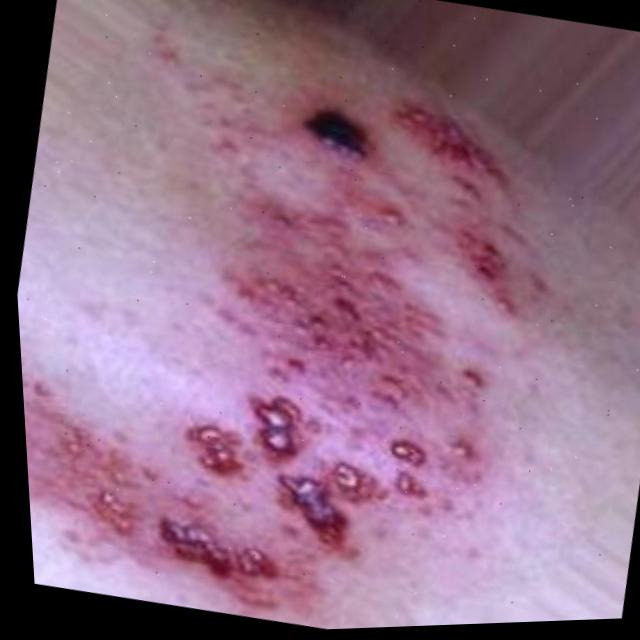Shingles: (0, 0, 577, 640)
